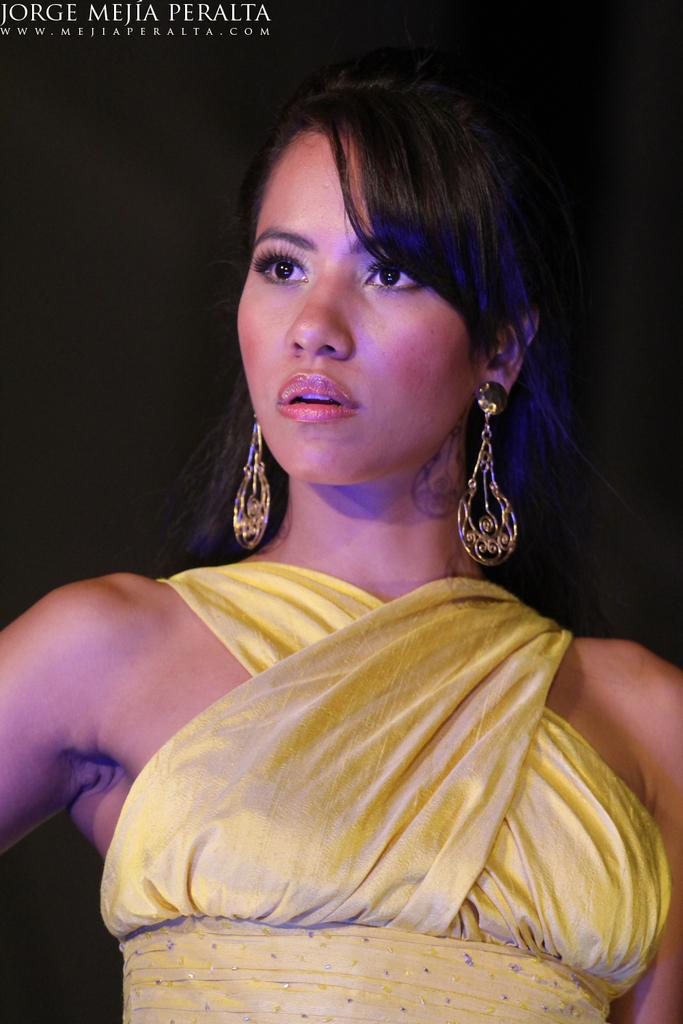earring: (457, 375, 522, 569)
